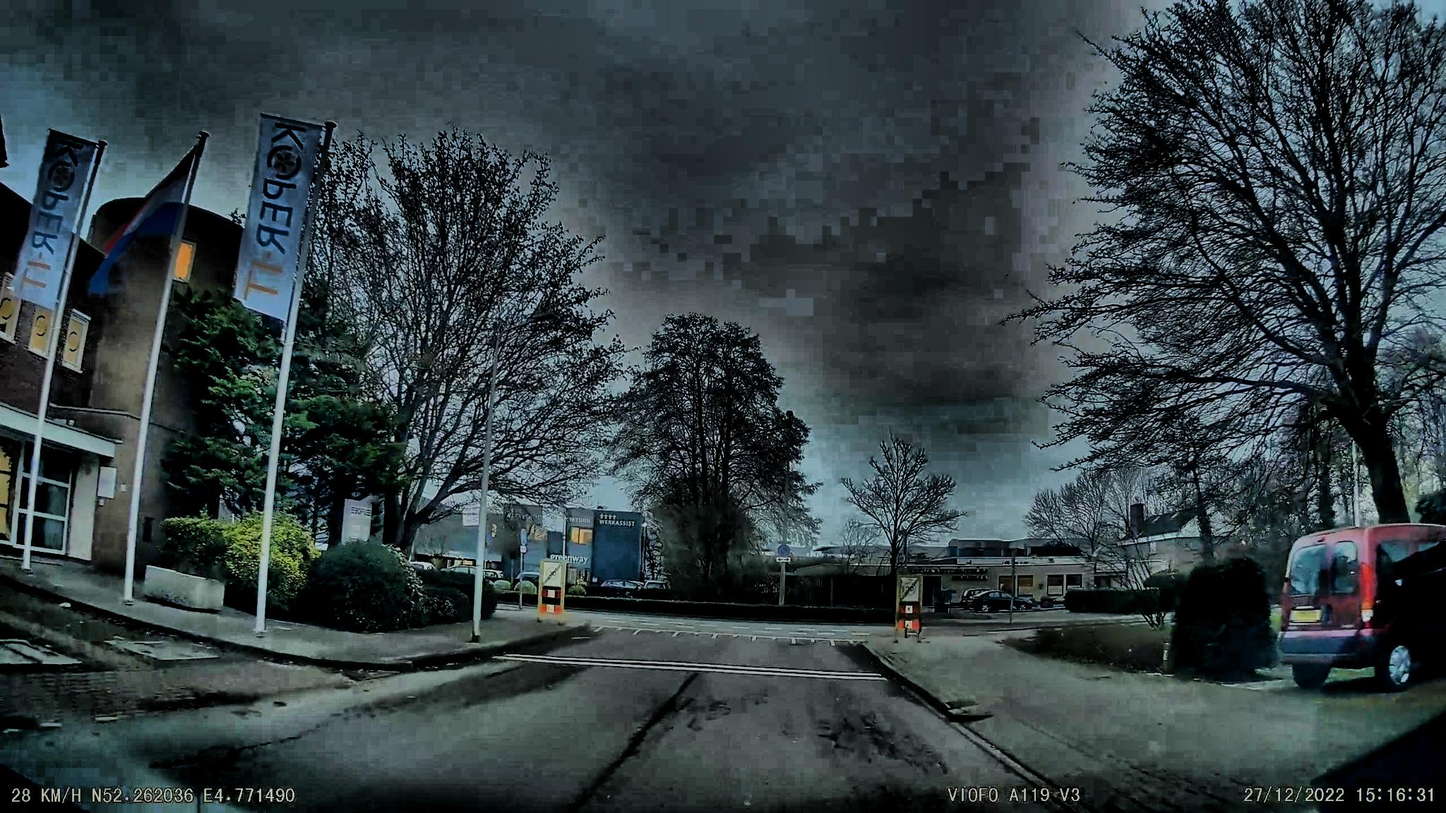Roads: (0, 640, 961, 813)
